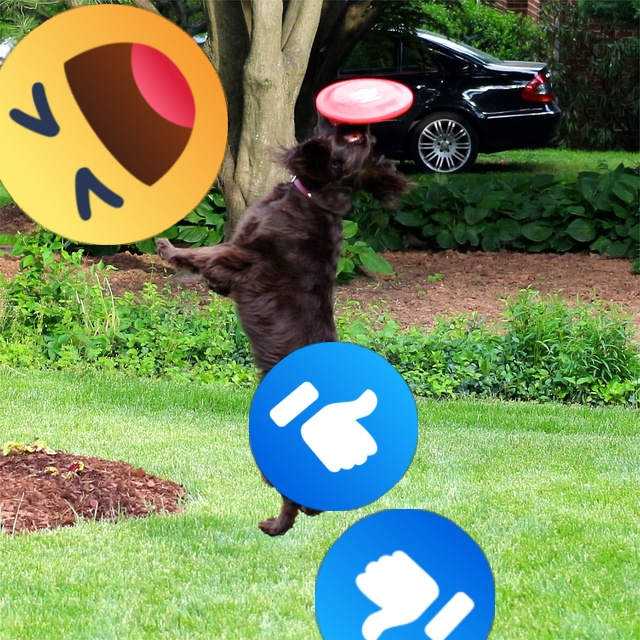haha: (0, 4, 228, 245)
like: (249, 342, 418, 511), (315, 509, 495, 640)
